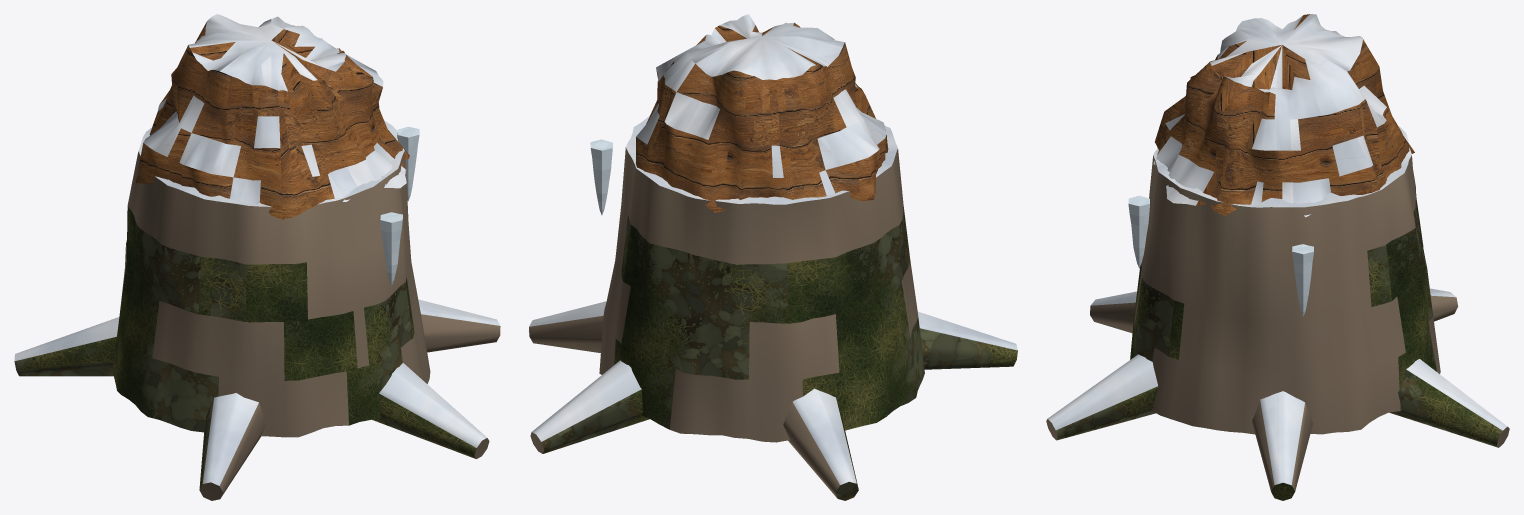
Rendered from frozen-stump-v01.glb.
3 views of the same model, side by side, from view 1: azimuth 30°, elevation 25°; view 2: azimuth 150°, elevation 25°; view 3: azimuth 270°, elevation 25° (orthographic). The views are drawn at different scales.
Visible parts, largest first — view 1: frozen-stump; view 2: frozen-stump; view 3: frozen-stump.
Boxes of the visible parts, x1,y1,x2,y2 form: frozen-stump: (14, 14, 500, 500); frozen-stump: (529, 14, 1017, 500); frozen-stump: (1046, 14, 1509, 500).
Bounding box in the file's own units: 1.81 × 1.55 × 1.84.
5 materials, 3 textured.
